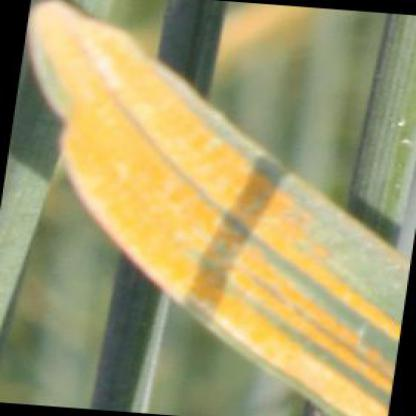Wheat-Yellow-rust: (76, 99, 214, 195), (319, 230, 386, 395), (262, 172, 306, 326), (105, 198, 223, 246), (43, 53, 136, 90), (226, 131, 252, 260), (152, 252, 226, 279), (230, 266, 256, 340), (267, 332, 310, 373), (36, 11, 82, 46), (85, 23, 127, 48), (143, 64, 173, 92), (178, 282, 213, 302), (334, 398, 382, 411), (196, 308, 219, 322)
